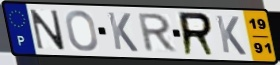K: (214, 14, 249, 57), (106, 11, 140, 54)
N: (29, 8, 67, 51)
O: (64, 9, 100, 53)
R: (177, 10, 218, 57), (137, 12, 179, 53)
